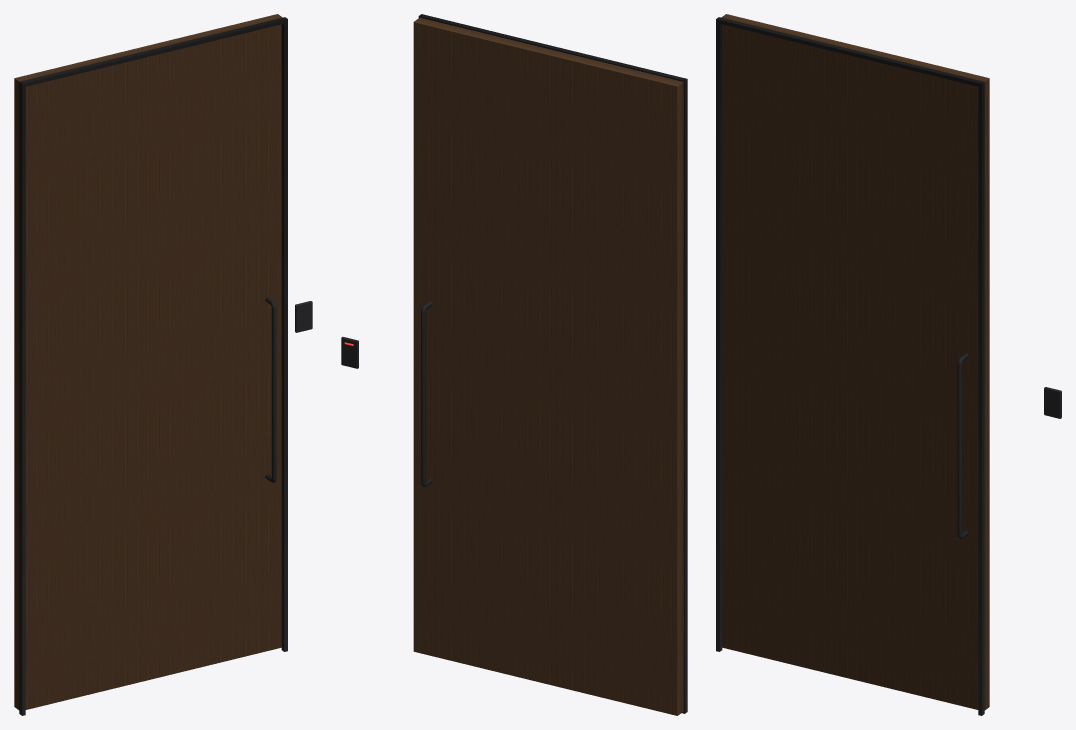
Rendered from door.gltf.
3 renders of one model, left to right at view 1: azimuth 30°, elevation 25°; view 2: azimuth 150°, elevation 25°; view 3: azimuth 330°, elevation 25°, orthographic.
Visible parts, largest first — view 1: Door_Slab, Door_Stop_L, Door_Stop_R, Door_Stop_Head, Door_Pull_Hall, Door_Reader; view 2: Door_Slab, Door_Stop_L, Door_Stop_Head, Door_Pull_Room; view 3: Door_Slab, Door_Stop_R, Door_Stop_L, Door_Stop_Head, Door_Pull_Hall.
Part boxes in pixels (x1,y1,x2,y2): Door_Slab: [14, 14, 282, 710]; Door_Stop_L: [19, 81, 25, 715]; Door_Stop_R: [281, 17, 287, 651]; Door_Stop_Head: [19, 18, 287, 87]; Door_Pull_Hall: [265, 297, 276, 482]; Door_Reader: [295, 301, 312, 332]; Door_Slab: [413, 17, 683, 715]; Door_Stop_L: [682, 78, 687, 713]; Door_Stop_Head: [418, 15, 687, 84]; Door_Pull_Room: [421, 301, 432, 487]; Door_Slab: [721, 14, 989, 710]; Door_Stop_R: [978, 81, 984, 715]; Door_Stop_L: [716, 17, 722, 651]; Door_Stop_Head: [716, 18, 984, 87]; Door_Pull_Hall: [957, 353, 968, 538].
Size of the model in its own units: 1.32 by 2.5 by 0.2455.
3 materials, 1 textured.
